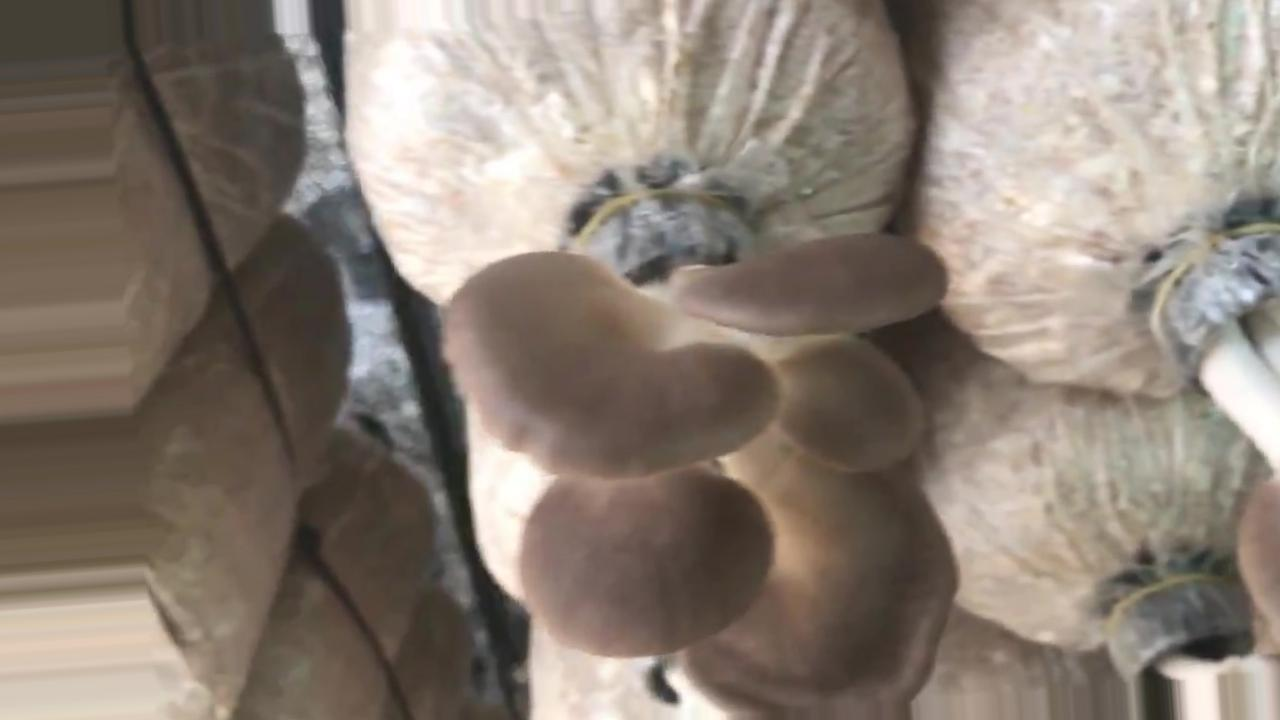nam: (445, 195, 956, 720), (1155, 218, 1280, 618)
